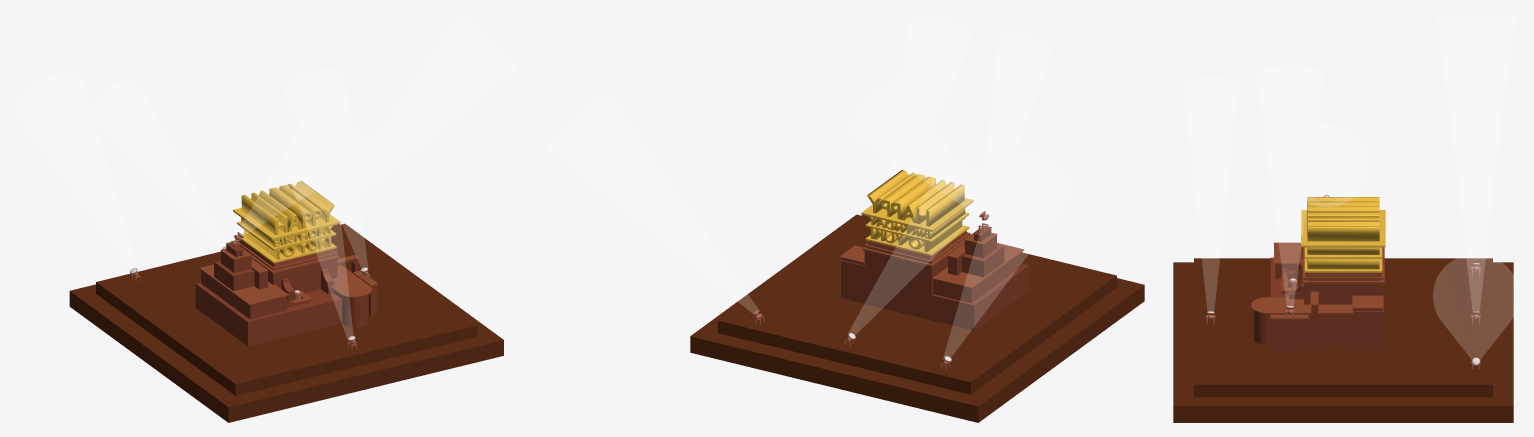
Rendered from birthday_yuki.glb.
The picture shows the model from 3 angles, left to right: view 1: azimuth 30°, elevation 25°; view 2: azimuth 150°, elevation 25°; view 3: azimuth 270°, elevation 25°; orthographic projection. The views are drawn at different scales.
Visible parts, largest first — view 1: 立方体.010, 立方体.011, 円柱.007, 円柱.006, 円柱.003, 円柱.001, 円柱.002, 円柱, 立方体.020, テキスト, 立方体.028, 立方体.008 (+8 smaller); view 2: 立方体.010, 立方体.011, 円柱.007, 円柱.006, 円柱.003, 円柱.001, 円柱, 円柱.002, 立方体.008, テキスト, 立方体.020, 立方体.028 (+7 smaller); view 3: 立方体.010, 立方体.011, 円柱.006, 円柱.001, 円柱.003, 円柱.002, 円柱.007, 円柱, テキスト, 立方体.009, 立方体.008, 立方体.012 (+14 smaller).
Boxes of the visible parts, <box> form: 立方体.010: <box>96,224,477,395</box>; 立方体.011: <box>69,223,503,422</box>; 円柱.007: <box>330,14,516,215</box>; 円柱.006: <box>14,74,137,269</box>; 円柱.003: <box>91,81,226,247</box>; 円柱.001: <box>285,69,367,267</box>; 円柱.002: <box>283,141,352,338</box>; 円柱: <box>236,99,372,235</box>; 立方体.020: <box>195,282,341,346</box>; テキスト: <box>241,181,334,234</box>; 立方体.028: <box>201,270,287,319</box>; 立方体.008: <box>268,258,337,292</box>; 立方体.010: <box>718,215,1116,394</box>; 立方体.011: <box>690,214,1144,422</box>; 円柱.007: <box>547,91,757,313</box>; 円柱.006: <box>944,153,1072,357</box>; 円柱.003: <box>848,160,992,335</box>; 円柱.001: <box>890,14,971,177</box>; 円柱: <box>843,72,986,215</box>; 円柱.002: <box>979,33,1050,225</box>; 立方体.008: <box>864,251,947,320</box>; テキスト: <box>867,170,964,226</box>; 立方体.020: <box>931,264,1029,330</box>; 立方体.028: <box>933,251,1022,303</box>; 立方体.010: <box>1194,258,1492,397</box>; 立方体.011: <box>1173,262,1513,422</box>; 円柱.006: <box>1436,14,1515,253</box>; 円柱.001: <box>1257,67,1323,305</box>; 円柱.003: <box>1445,66,1506,310</box>; 円柱.002: <box>1183,77,1238,311</box>; 円柱.007: <box>1433,254,1518,359</box>; 円柱: <box>1285,124,1368,206</box>; テキスト: <box>1307,197,1379,241</box>; 立方体.009: <box>1253,310,1352,344</box>; 立方体.008: <box>1304,283,1382,337</box>; 立方体.012: <box>1353,308,1382,350</box>.
Bounding box in the file's own units: 40.99 × 21.54 × 23.43.
